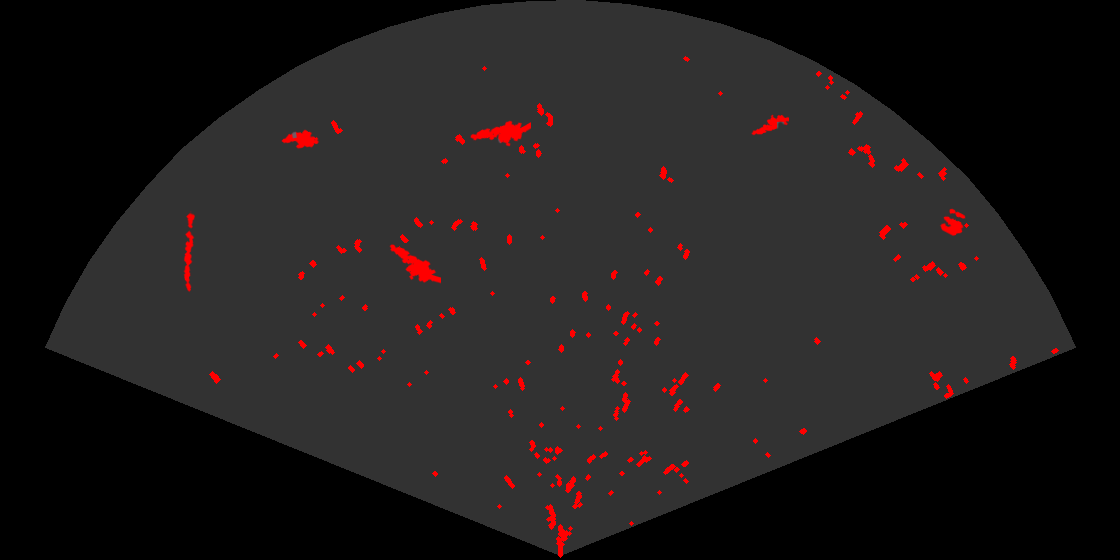AUV: (280, 128, 321, 150)
ball: (938, 207, 967, 238)
chain: (182, 211, 196, 293)
frogman: (388, 243, 441, 285), (469, 119, 531, 148), (751, 113, 789, 137)
